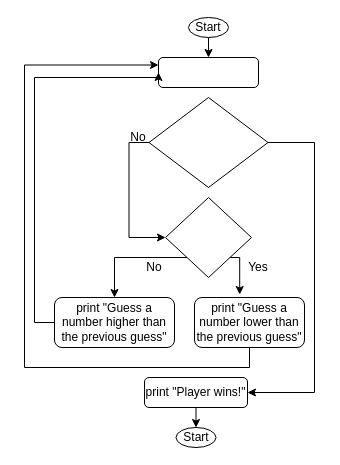
The diagram is 340 pixels wide and 465 high, and some of its shapes have lost their labels. Here are the shapes that lost their labels. From the top down, the centre of each, then its label:
At (208,72): "Input guess".
At (208,142): "does guess == 6?".
At (208,237): "is guess > 6?".
